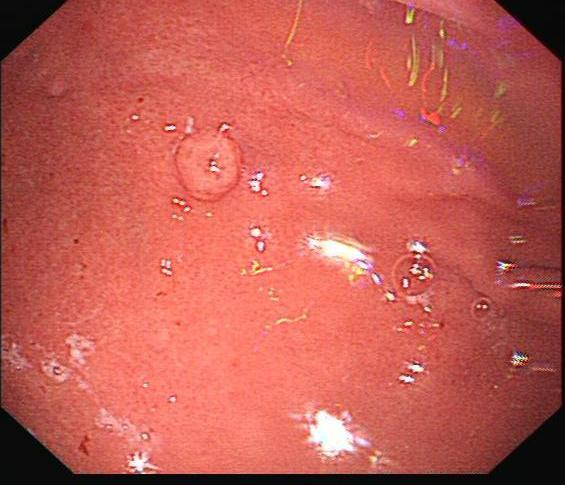Polyp: (168, 124, 246, 203)
